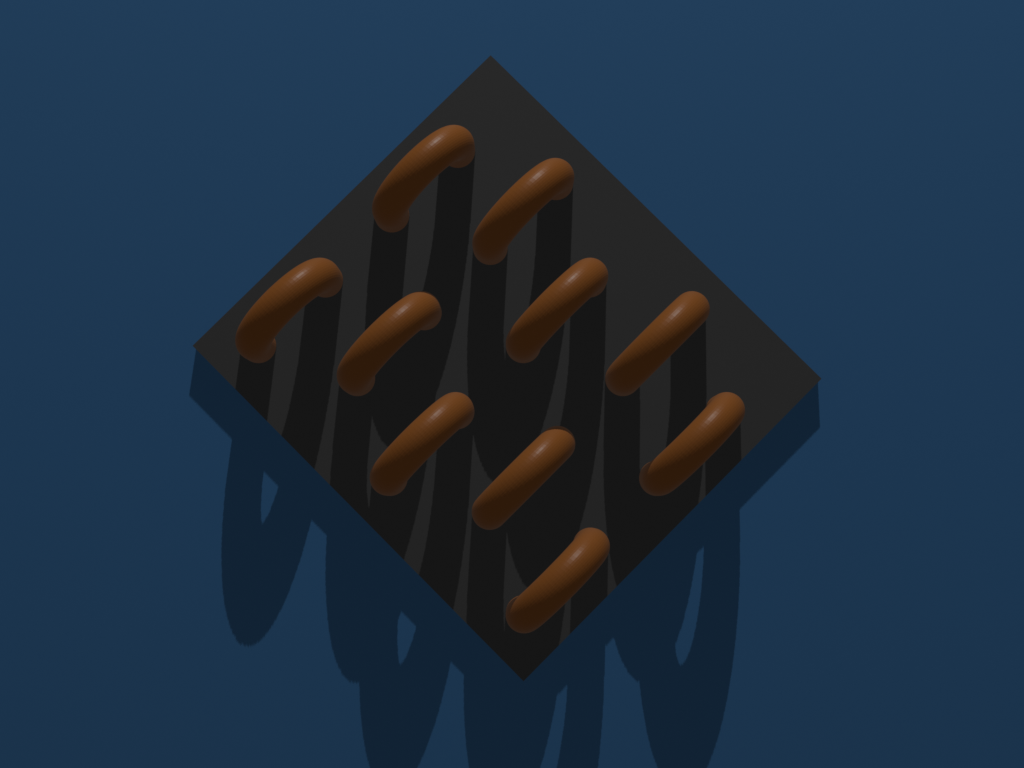return-bend: (476, 492, 645, 657), (436, 400, 605, 565), (338, 359, 507, 524), (472, 229, 641, 394), (342, 91, 511, 256), (609, 362, 777, 527), (574, 256, 743, 420), (440, 127, 609, 291), (303, 260, 472, 424), (201, 231, 370, 395)
